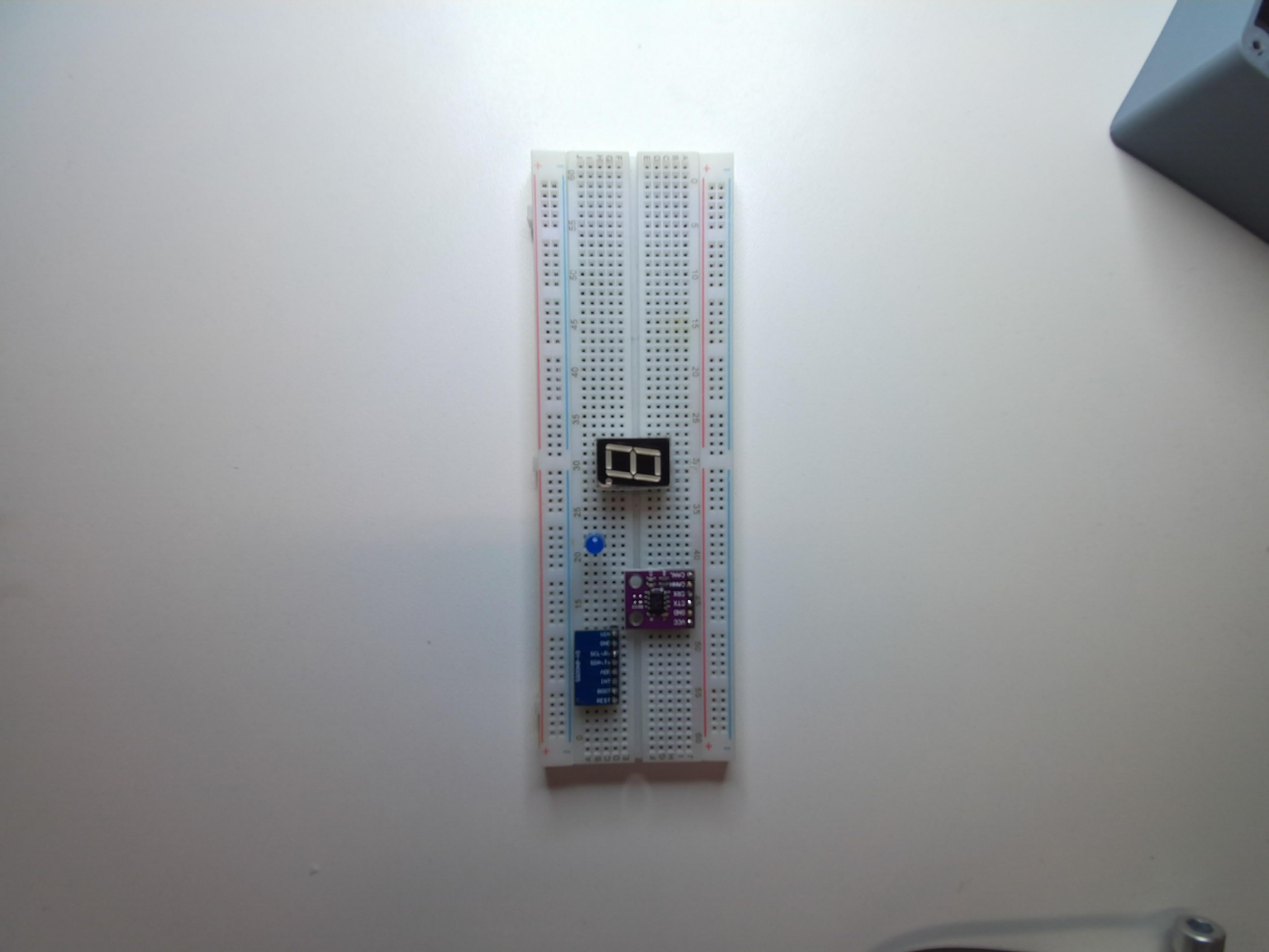base: (514, 147, 741, 799)
blue-board: (572, 625, 628, 711)
blue-led: (586, 536, 603, 555)
digit-board: (595, 436, 674, 491)
purple-board: (620, 566, 702, 633)
